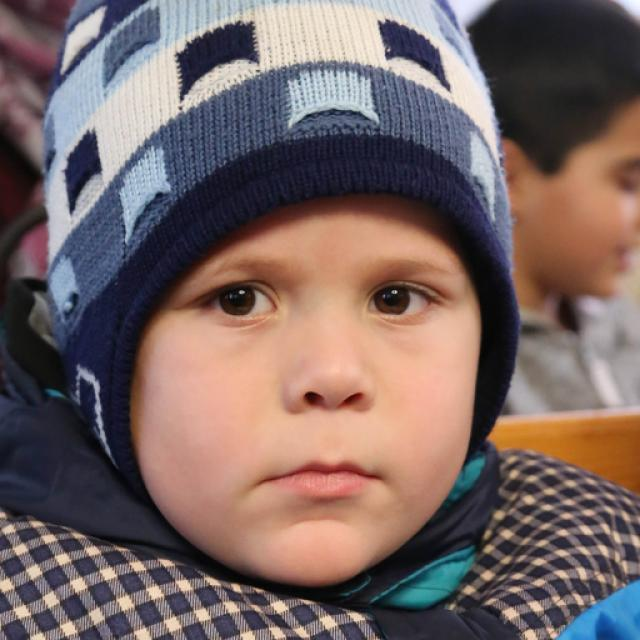neutral: (131, 188, 480, 582)
